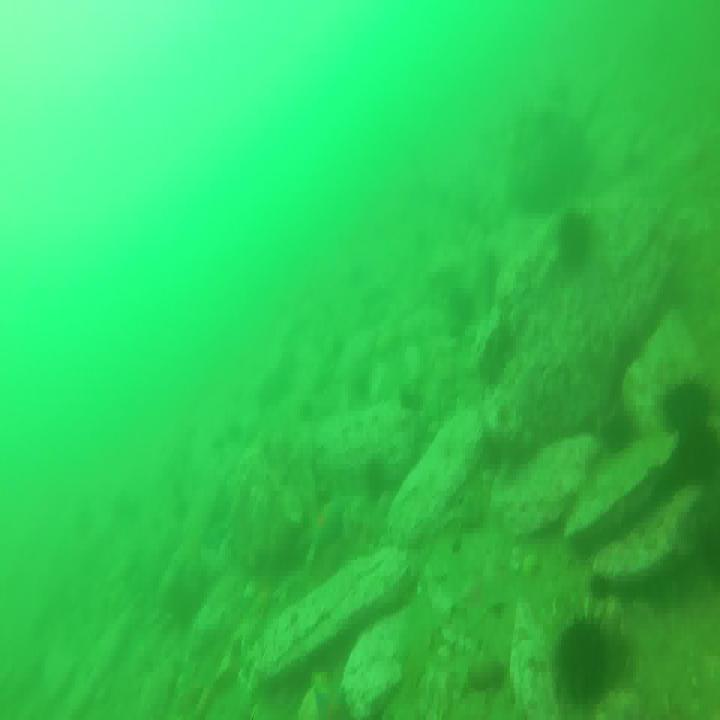echinus: (556, 614, 612, 710), (678, 427, 720, 495), (554, 212, 594, 274), (668, 378, 712, 432)
